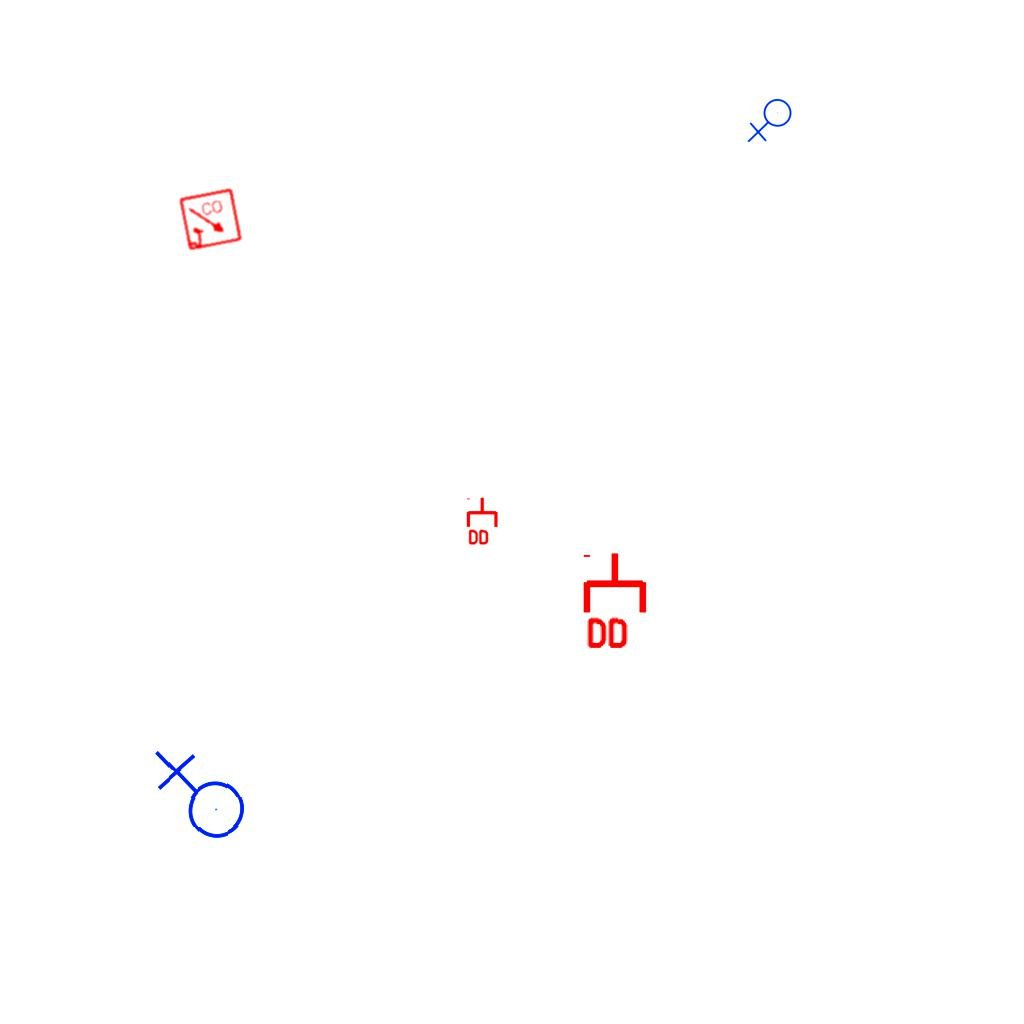Datenanschluss_zweifach: (582, 550, 651, 653), (466, 496, 500, 547)
Elektroanschluss_allgemein_230V_Geraeteanschlussdose_230V: (149, 746, 248, 850), (747, 98, 796, 145)
ROA_Rauchmelder_optisch_mit_Signalgeber_(Sockelsirene): (178, 187, 244, 253)
